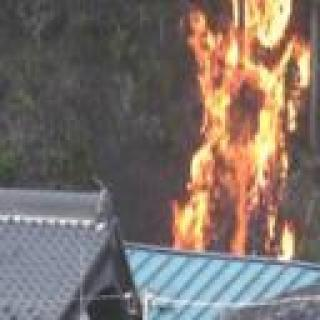fire: (179, 0, 313, 264)
